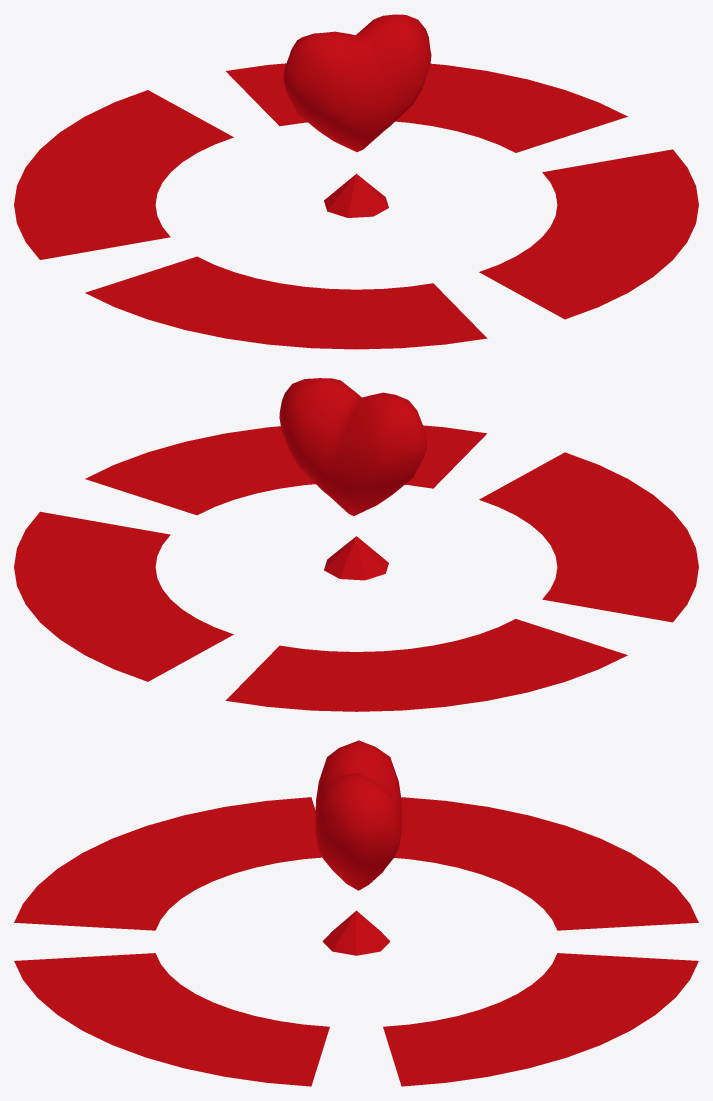
File: Vreticle.glb
3 views of the same model, one above another, from view 1: azimuth 30°, elevation 25°; view 2: azimuth 150°, elevation 25°; view 3: azimuth 270°, elevation 25° (orthographic).
Parts seen in each view (by area): view 1: Torus, Pillow_Heart_01; view 2: Torus, Pillow_Heart_01; view 3: Torus, Pillow_Heart_01.
Part boxes in pixels (bbox=[...]): Torus: bbox=[14, 63, 698, 349]; Pillow_Heart_01: bbox=[283, 14, 431, 151]; Torus: bbox=[14, 425, 698, 711]; Pillow_Heart_01: bbox=[279, 378, 426, 515]; Torus: bbox=[14, 797, 698, 1086]; Pillow_Heart_01: bbox=[315, 740, 402, 890].
Bounding box in the file's own units: 0.2797 × 0.0818 × 0.2797.
